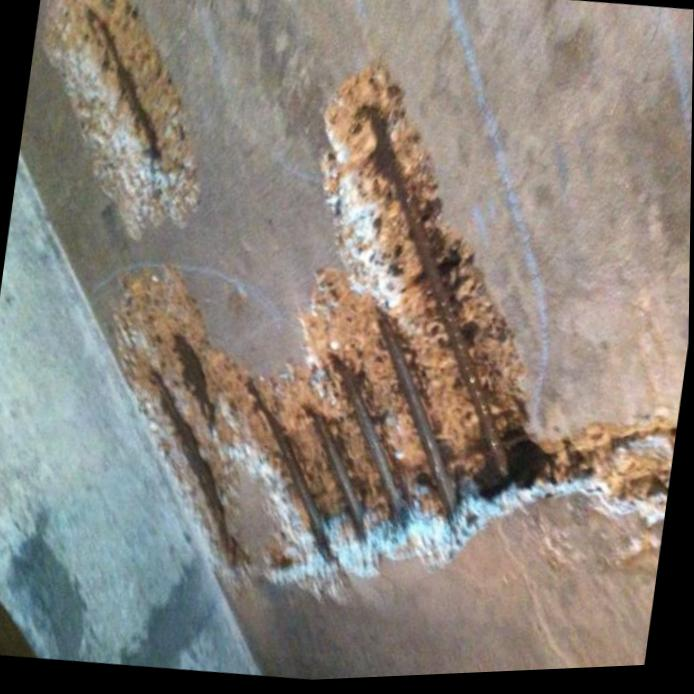damage: (41, 0, 678, 595)
